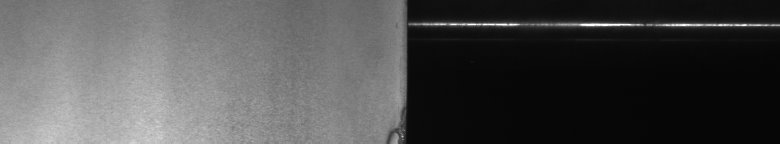hb: (381, 120, 396, 136)
